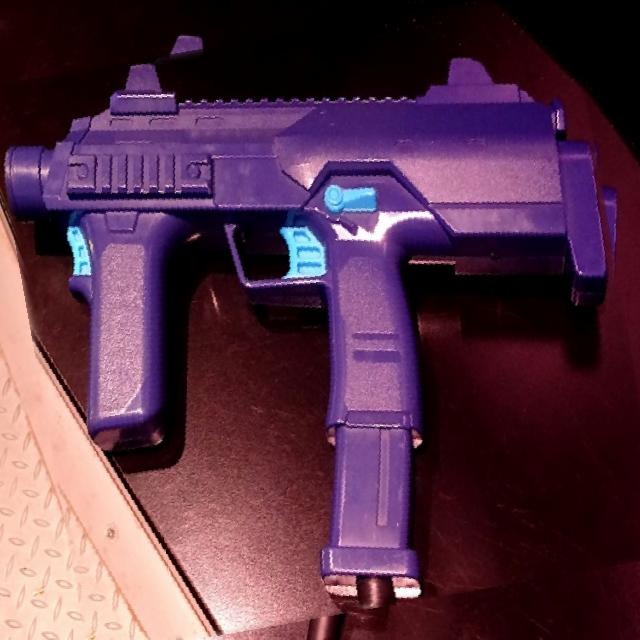gun: (11, 7, 640, 635)
